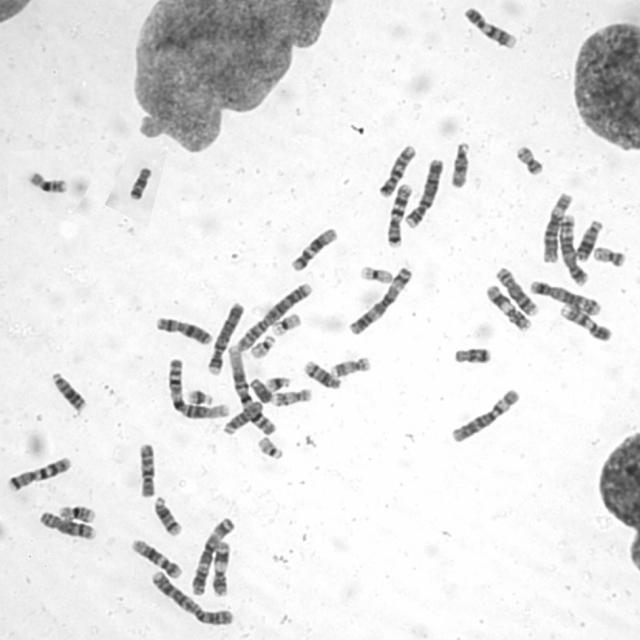A1: (225, 343, 278, 437), (166, 354, 230, 420)
A2: (232, 280, 312, 354), (148, 568, 236, 627)
A3: (346, 263, 414, 337), (188, 514, 237, 597)
B4: (204, 298, 245, 376), (402, 156, 445, 230)
B5: (527, 277, 602, 317), (558, 212, 590, 286)
C10: (376, 142, 418, 198), (136, 440, 158, 500)
C11: (483, 282, 533, 334), (209, 539, 231, 596)
C12: (288, 224, 338, 273), (130, 536, 184, 579)
C6: (448, 386, 522, 444), (540, 189, 573, 265)
C7: (4, 454, 73, 491), (384, 182, 414, 248)
C8: (492, 264, 540, 318), (36, 508, 98, 542)
C9: (462, 4, 518, 50), (558, 302, 612, 343)
D13: (49, 368, 87, 413), (573, 217, 605, 262)
D14: (302, 357, 343, 391), (151, 494, 183, 537)
D15: (219, 401, 264, 435), (448, 139, 472, 188)
E16: (26, 167, 68, 195), (55, 502, 97, 524)
E17: (328, 354, 372, 379), (270, 386, 312, 407)
E18: (125, 164, 153, 202), (450, 344, 492, 366)
F19: (270, 309, 303, 337), (357, 262, 394, 285)
F20: (514, 142, 544, 177), (591, 244, 627, 268)
G21: (182, 387, 215, 408), (264, 373, 292, 393)
G22: (247, 332, 277, 359), (256, 433, 285, 460)
X: (153, 313, 214, 346)
Y: (249, 379, 272, 404)
